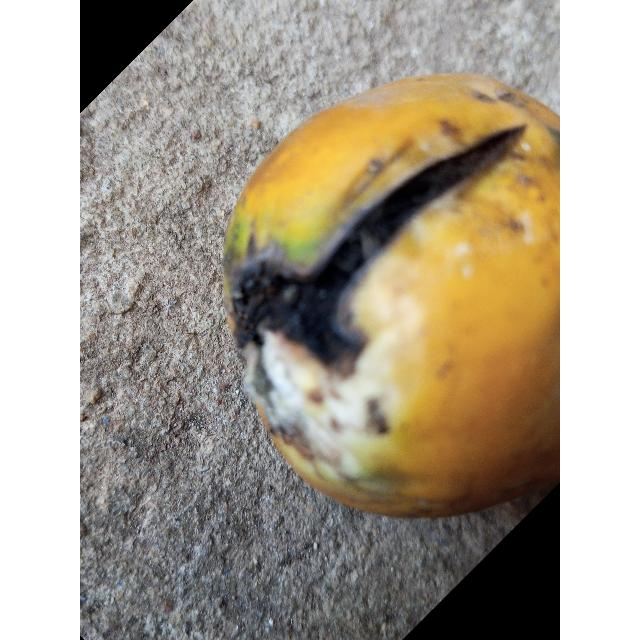damaged: (223, 75, 560, 517)
